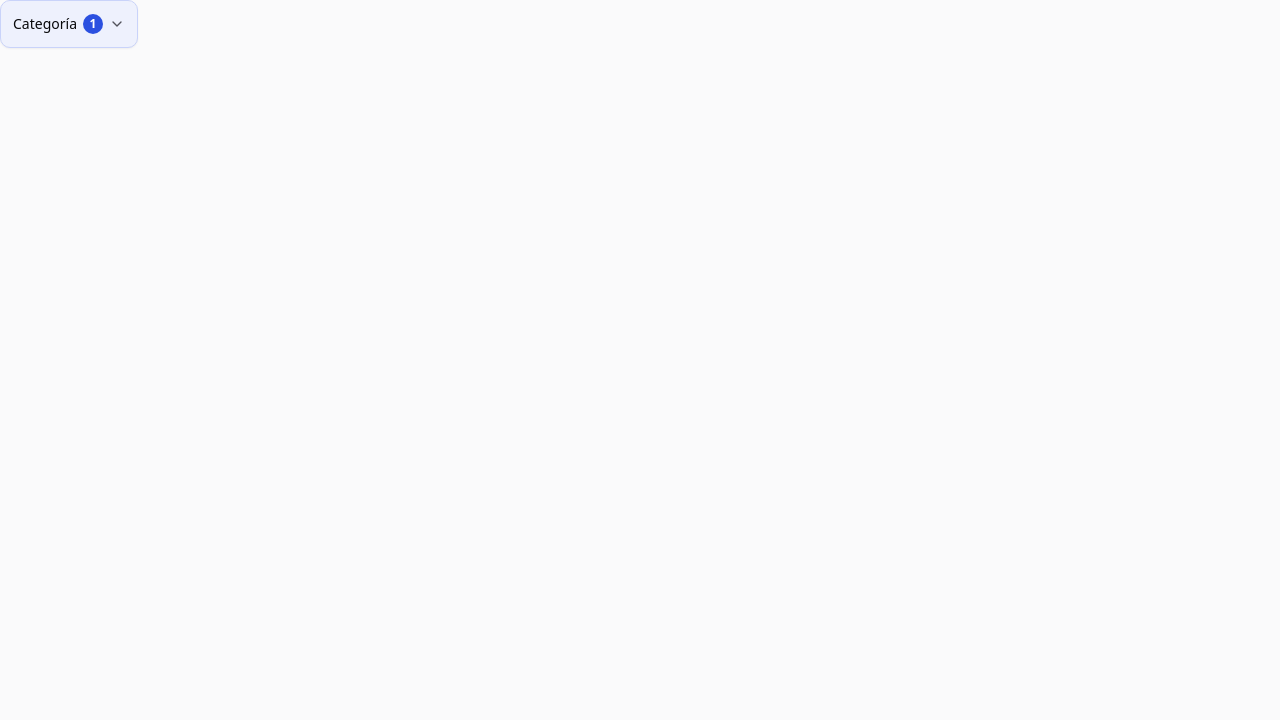
Test case: Filtro › «Limpiar» deja la selección vacía y solo aparece si hay algo elegido
The width and height of the screenshot is (1280, 720).
Click the button "Categoría 1". click: [69, 24]
box: [0,0,138,48]
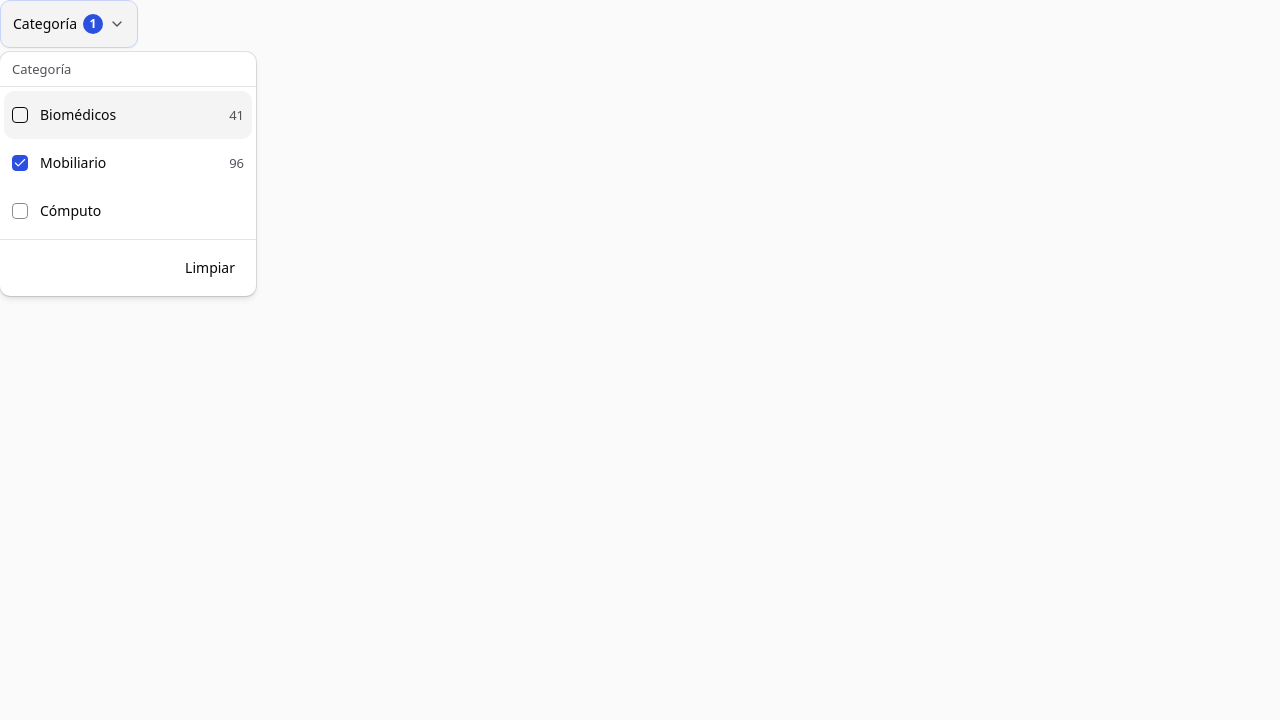
Expected: the element named "Categoría" is shown, [0,87,256,239]
Click the button "Limpiar". click: [210, 268]
box: [168,244,252,292]
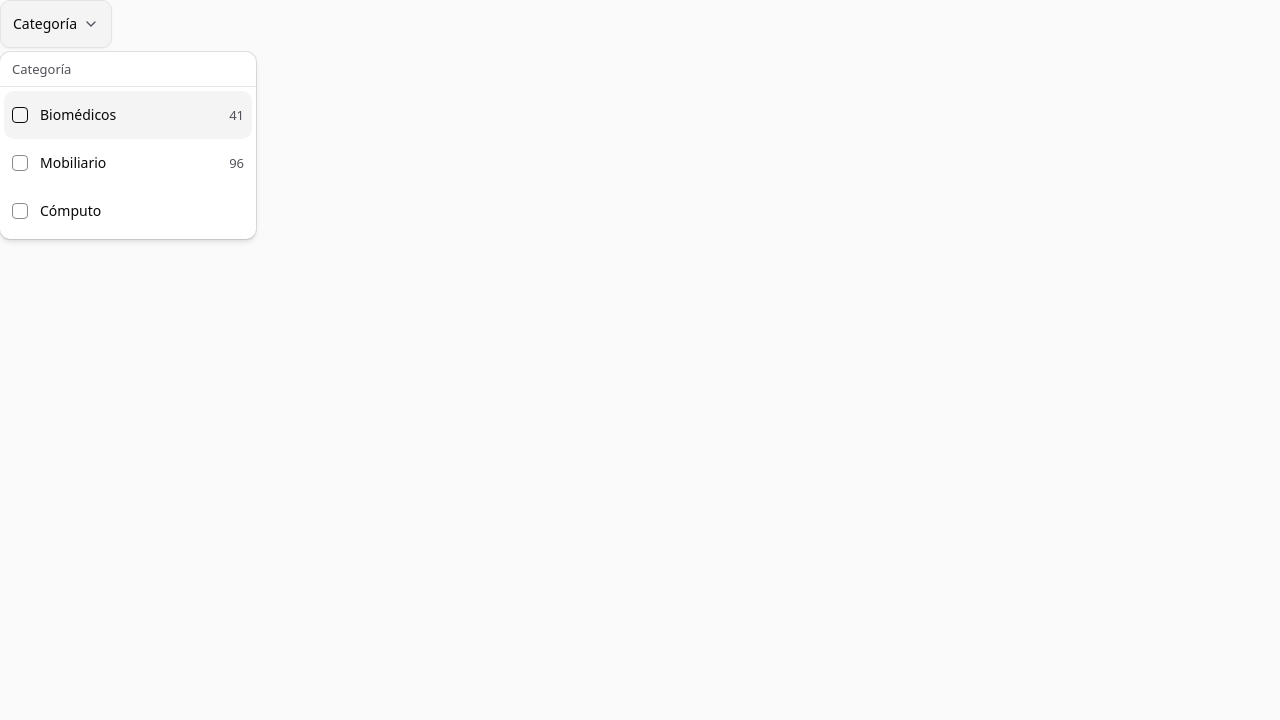
Expected: the button "Limpiar" is gone
